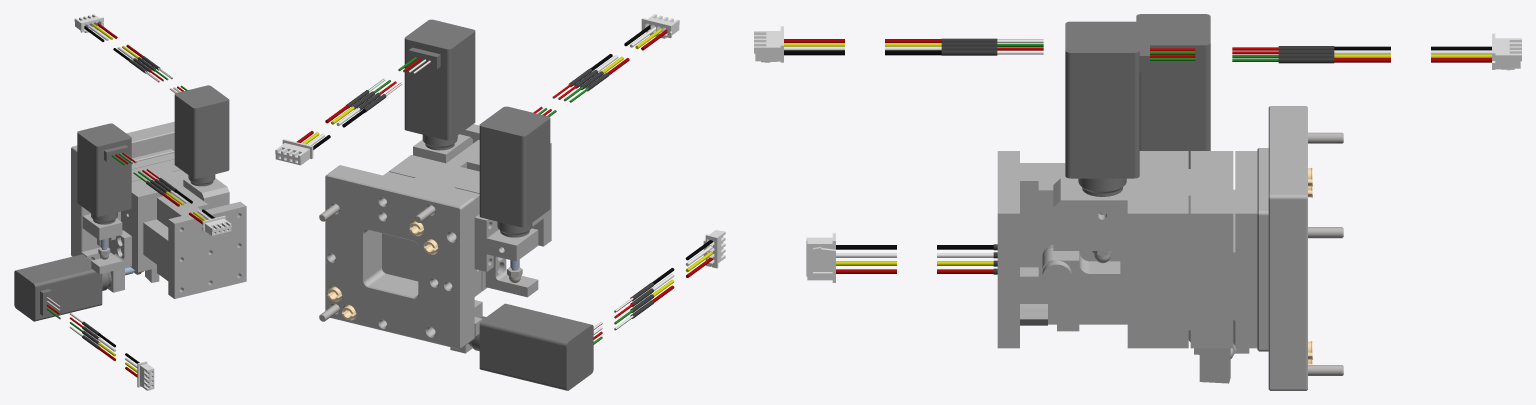
The model's file is ASS_-_3006_-_AUTXYZSTG_-_V04.glb.
3 renders of one model, left to right at view 1: azimuth 30°, elevation 25°; view 2: azimuth 150°, elevation 25°; view 3: azimuth 270°, elevation 25°, orthographic. The views are drawn at different scales.
Visible parts, largest first — view 1: BUY - Stepping motor - 20K-2AB-12.7 - YPF Motors:1 (×3), BUY - XYZ linear table - LD40-LM --- Z table:1, BUY - JST - XH 4pin female connector with 20cm wire:1 (×3), PRT - 1017 - BASXYZSTG - V04:1, BUY - XYZ linear table - LD40-LM --- Z base:1, BUY - XYZ linear table - LD40-LM --- bracket:2, BUY - XYZ linear table - LD40-LM --- XY plate:1, BUY - XYZ linear table - LD40-LM --- Y plate:1, BUY - XYZ linear table - LD40-LM --- motor holder:2, BUY - XYZ linear table - LD40-LM --- motor holder:1, BUY - XYZ linear table - LD40-LM --- base:1; view 2: BUY - Stepping motor - 20K-2AB-12.7 - YPF Motors:1 (×3), PRT - 1017 - BASXYZSTG - V04:1, BUY - JST - XH 4pin female connector with 20cm wire:1 (×3), BUY - XYZ linear table - LD40-LM --- motor holder:2, BUY - XYZ linear table - LD40-LM --- Z base:1, BUY - XYZ linear table - LD40-LM --- base:1, BUY - XYZ linear table - LD40-LM --- Y plate:1, BUY - XYZ linear table - LD40-LM --- XY plate:1, BUY - XYZ linear table - LD40-LM --- bracket:2, BUY - XYZ linear table - LD40-LM --- Z table:1; view 3: BUY - Stepping motor - 20K-2AB-12.7 - YPF Motors:1 (×2), PRT - 1017 - BASXYZSTG - V04:1, BUY - XYZ linear table - LD40-LM --- Z base:1, BUY - JST - XH 4pin female connector with 20cm wire:1 (×3), BUY - XYZ linear table - LD40-LM --- XY plate:1, BUY - XYZ linear table - LD40-LM --- Z table:1, BUY - XYZ linear table - LD40-LM --- Y plate:1, BUY - XYZ linear table - LD40-LM --- base:1, BUY - XYZ linear table - LD40-LM --- converter:1, BUY - XYZ linear table - LD40-LM --- bracket:1.
Boxes of the visible parts, x1,y1,x2,y2 form: BUY - Stepping motor - 20K-2AB-12.7 - YPF Motors:1 (×3): [14, 68, 229, 336]; BUY - XYZ linear table - LD40-LM --- Z table:1: [143, 193, 246, 298]; BUY - JST - XH 4pin female connector with 20cm wire:1 (×3): [74, 14, 231, 390]; PRT - 1017 - BASXYZSTG - V04:1: [71, 121, 174, 256]; BUY - XYZ linear table - LD40-LM --- Z base:1: [133, 178, 229, 272]; BUY - XYZ linear table - LD40-LM --- bracket:2: [91, 230, 131, 274]; BUY - XYZ linear table - LD40-LM --- XY plate:1: [108, 159, 180, 254]; BUY - XYZ linear table - LD40-LM --- Y plate:1: [121, 170, 188, 268]; BUY - XYZ linear table - LD40-LM --- motor holder:2: [82, 211, 122, 240]; BUY - XYZ linear table - LD40-LM --- motor holder:1: [81, 247, 124, 292]; BUY - XYZ linear table - LD40-LM --- base:1: [108, 153, 174, 247]; BUY - Stepping motor - 20K-2AB-12.7 - YPF Motors:1 (×3): [368, 19, 633, 390]; PRT - 1017 - BASXYZSTG - V04:1: [325, 165, 474, 349]; BUY - JST - XH 4pin female connector with 20cm wire:1 (×3): [275, 14, 725, 302]; BUY - XYZ linear table - LD40-LM --- motor holder:2: [474, 214, 538, 271]; BUY - XYZ linear table - LD40-LM --- Z base:1: [404, 134, 498, 229]; BUY - XYZ linear table - LD40-LM --- base:1: [382, 233, 418, 281]; BUY - XYZ linear table - LD40-LM --- Y plate:1: [389, 160, 497, 291]; BUY - XYZ linear table - LD40-LM --- XY plate:1: [383, 171, 481, 296]; BUY - XYZ linear table - LD40-LM --- bracket:2: [485, 256, 538, 297]; BUY - XYZ linear table - LD40-LM --- Z table:1: [460, 124, 551, 246]; BUY - Stepping motor - 20K-2AB-12.7 - YPF Motors:1 (×2): [997, 14, 1278, 196]; PRT - 1017 - BASXYZSTG - V04:1: [1257, 106, 1307, 390]; BUY - XYZ linear table - LD40-LM --- Z base:1: [1038, 151, 1145, 348]; BUY - JST - XH 4pin female connector with 20cm wire:1 (×3): [754, 26, 1521, 282]; BUY - XYZ linear table - LD40-LM --- XY plate:1: [1168, 151, 1233, 348]; BUY - XYZ linear table - LD40-LM --- Z table:1: [997, 151, 1067, 348]; BUY - XYZ linear table - LD40-LM --- Y plate:1: [1146, 151, 1188, 348]; BUY - XYZ linear table - LD40-LM --- base:1: [1213, 151, 1257, 348]; BUY - XYZ linear table - LD40-LM --- converter:1: [1042, 245, 1120, 331]; BUY - XYZ linear table - LD40-LM --- bracket:1: [1194, 348, 1230, 383].
Size of the model in its own units: 96.6 by 111 by 207.
